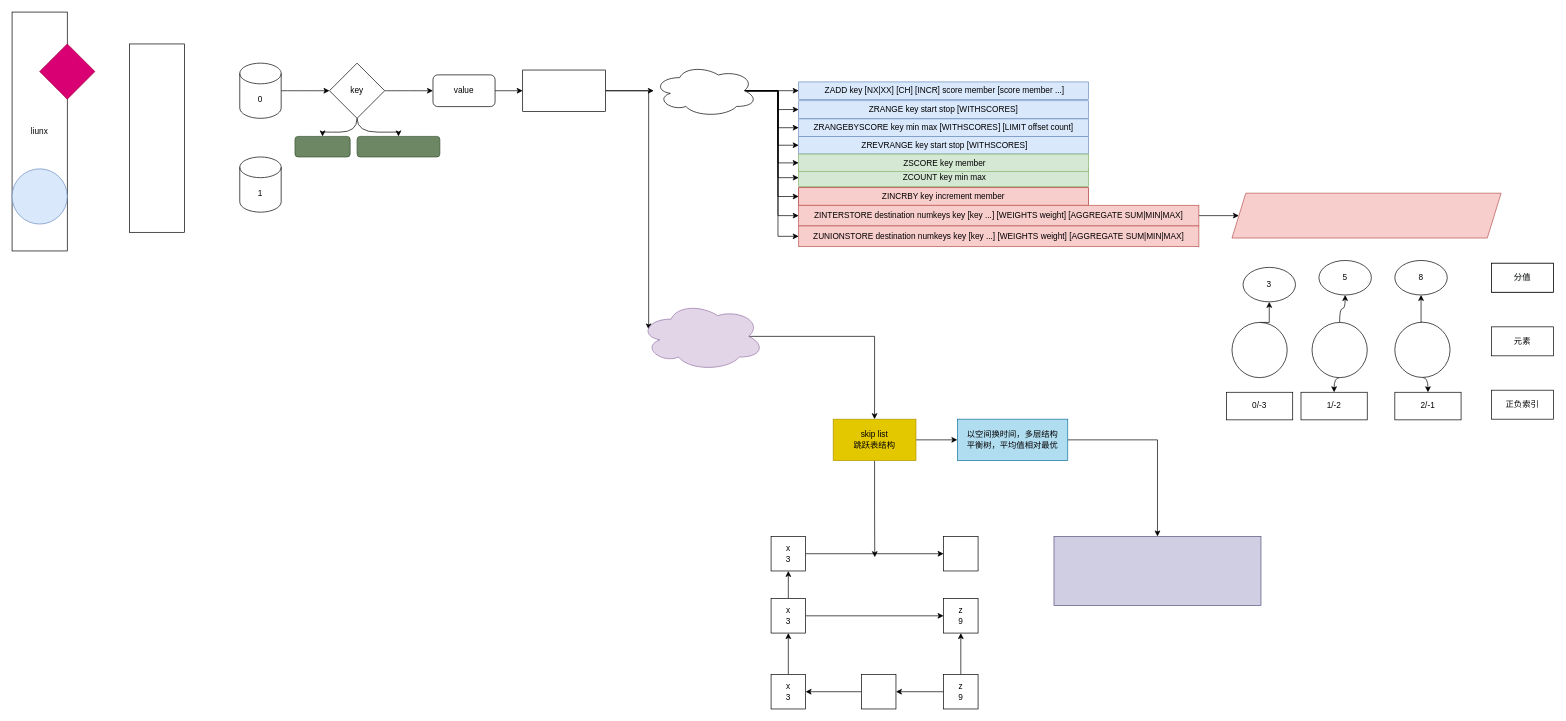
Image size: 1566x721. Some labels were removed from this diagram. Each missing label, with the box of its shape:
epoll: (39, 43, 95, 99)
kernel: (11, 168, 67, 224)
nil: (943, 536, 978, 571)
object encoding key: (356, 136, 440, 157)
port:6379: (129, 43, 185, 232)
sorted_set: (522, 69, 605, 111)
TYPE key: (294, 136, 350, 157)
y 7: (861, 674, 896, 709)
ZINTERSTORE interkey 2 math english weights 1 2 aggregate min: (1231, 193, 1501, 238)
增：从上层对比，一步步往下，最后在第一层锁定 然后随机造层 改：先从结构中删除，然后再插入一遍: (1053, 536, 1261, 605)
排序是怎么实现的？ 增删改查的速度如何？: (639, 301, 764, 371)
物理内存左小右大， 不随命令改变: (653, 64, 757, 117)
苹果: (1231, 322, 1287, 378)
菠萝: (1394, 322, 1450, 377)
香蕉: (1311, 322, 1367, 378)
